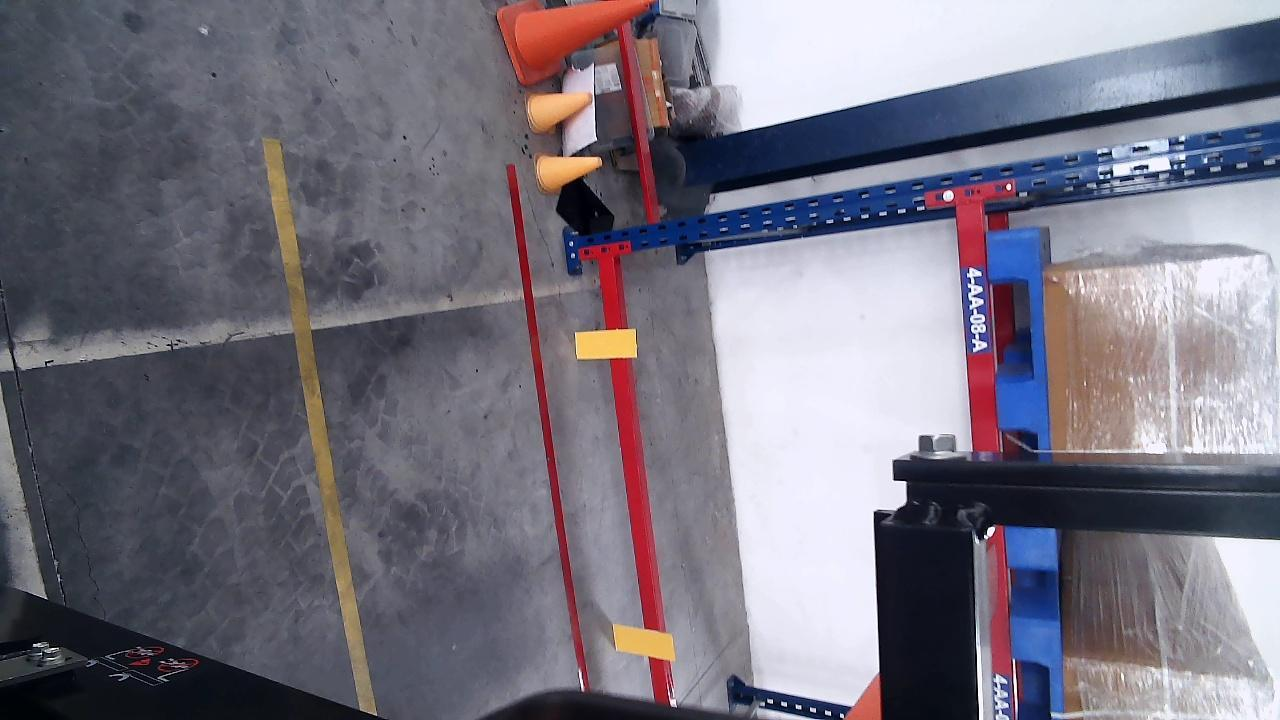h_rack: (598, 258, 672, 705), (953, 203, 1001, 449)
orange_strip: (614, 623, 676, 661), (576, 331, 638, 359)
red_line: (504, 163, 590, 691)
small_pallet: (990, 231, 1053, 461)
yellow_line: (262, 140, 379, 716)
